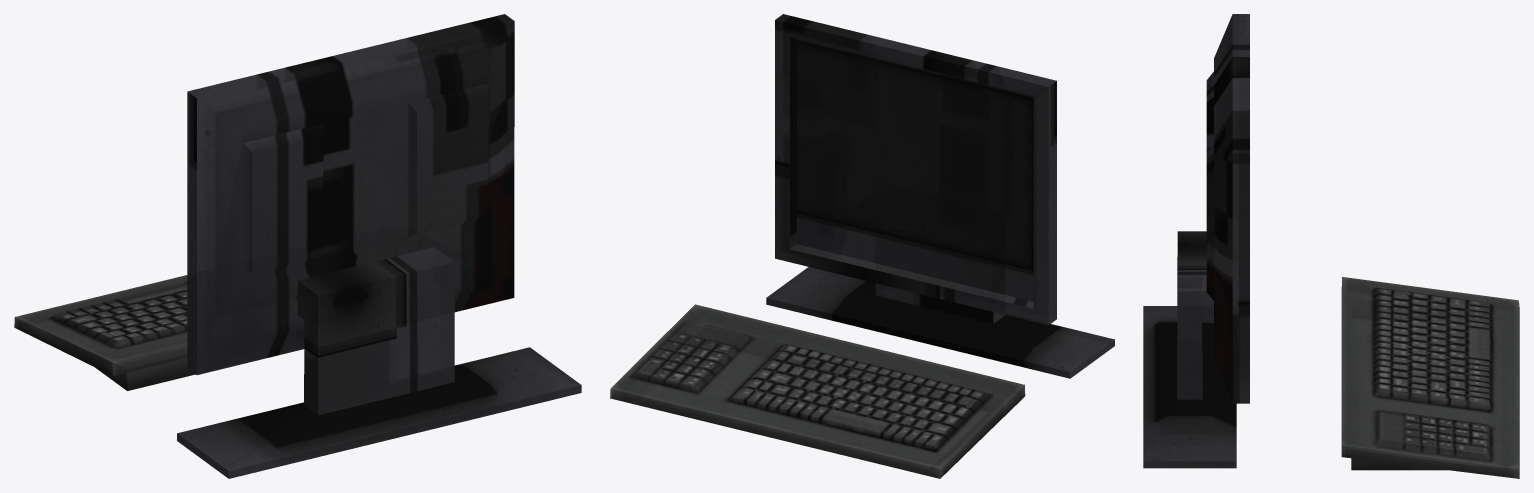
File: cb_computer_-_scp.glb
3 views of the same model, side by side, from view 1: azimuth 30°, elevation 25°; view 2: azimuth 150°, elevation 25°; view 3: azimuth 270°, elevation 25° (orthographic). The views are drawn at different scales.
Visible parts, largest first — view 1: Object_3, Object_2; view 2: Object_3, Object_2; view 3: Object_2, Object_3.
Boxes of the visible parts, left/top/right/bottom form: Object_3: left=177, top=14, right=581, bottom=478; Object_2: left=14, top=275, right=195, bottom=390; Object_3: left=766, top=14, right=1114, bottom=378; Object_2: left=610, top=304, right=1025, bottom=478; Object_2: left=1341, top=277, right=1519, bottom=478; Object_3: left=1143, top=14, right=1249, bottom=468.
Size of the model in its own units: 4 by 3.4 by 3.78.
Materials: 2 (2 with a texture image).
